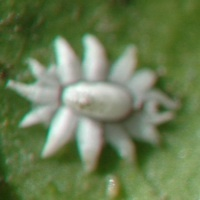insect: (7, 34, 177, 171)
